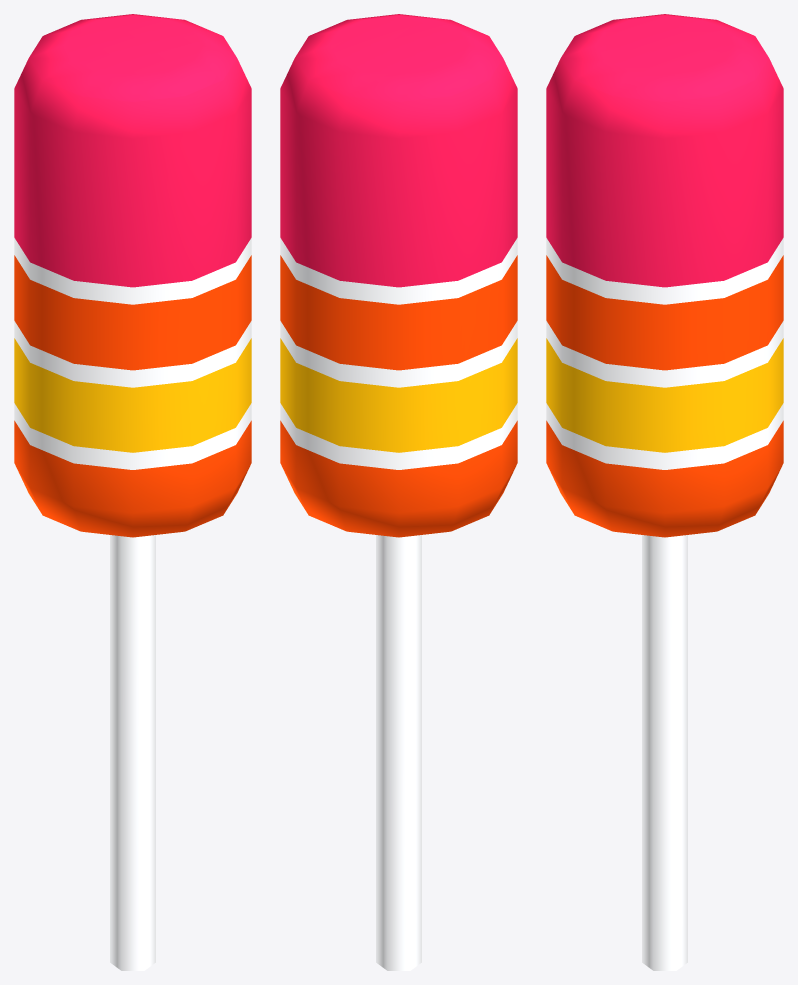
The model's file is Lollipop_16.glb.
3 views of the same model, side by side, from view 1: azimuth 30°, elevation 25°; view 2: azimuth 150°, elevation 25°; view 3: azimuth 270°, elevation 25° (orthographic).
Parts seen in each view (by area): view 1: Lollipop_16; view 2: Lollipop_16; view 3: Lollipop_16.
Part boxes in pixels (x1,y1,x2,y2): Lollipop_16: (14,14,251,970); Lollipop_16: (280,14,517,970); Lollipop_16: (546,14,783,970).
Bounding box in the file's own units: 1.17 × 5 × 1.17.
Materials: 1 (1 with a texture image).
